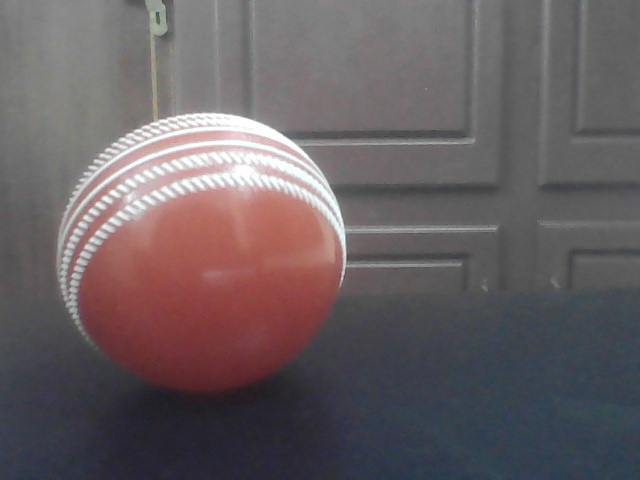cricket_ball: (50, 102, 354, 398)
